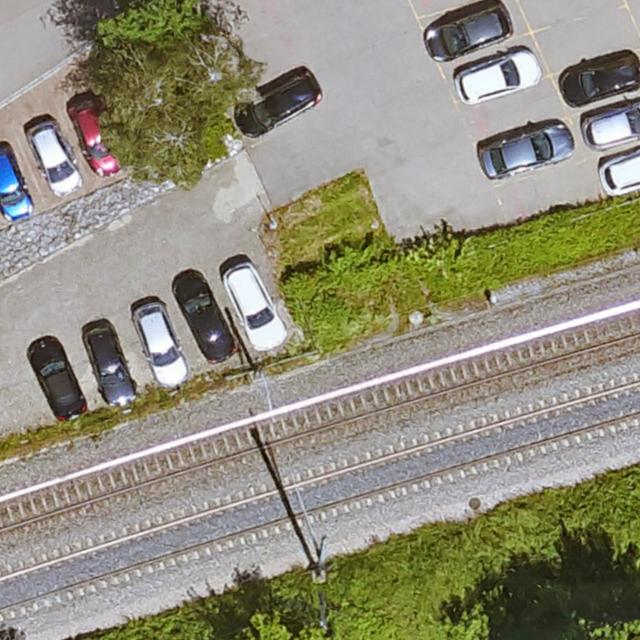tree: (91, 0, 250, 171), (222, 609, 331, 640)
